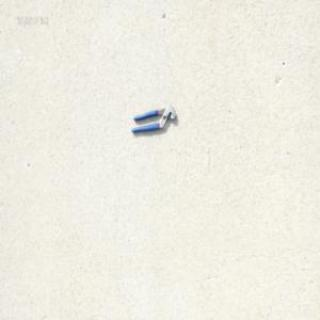Pliertrack_idkeyframe: (130, 103, 177, 134)
